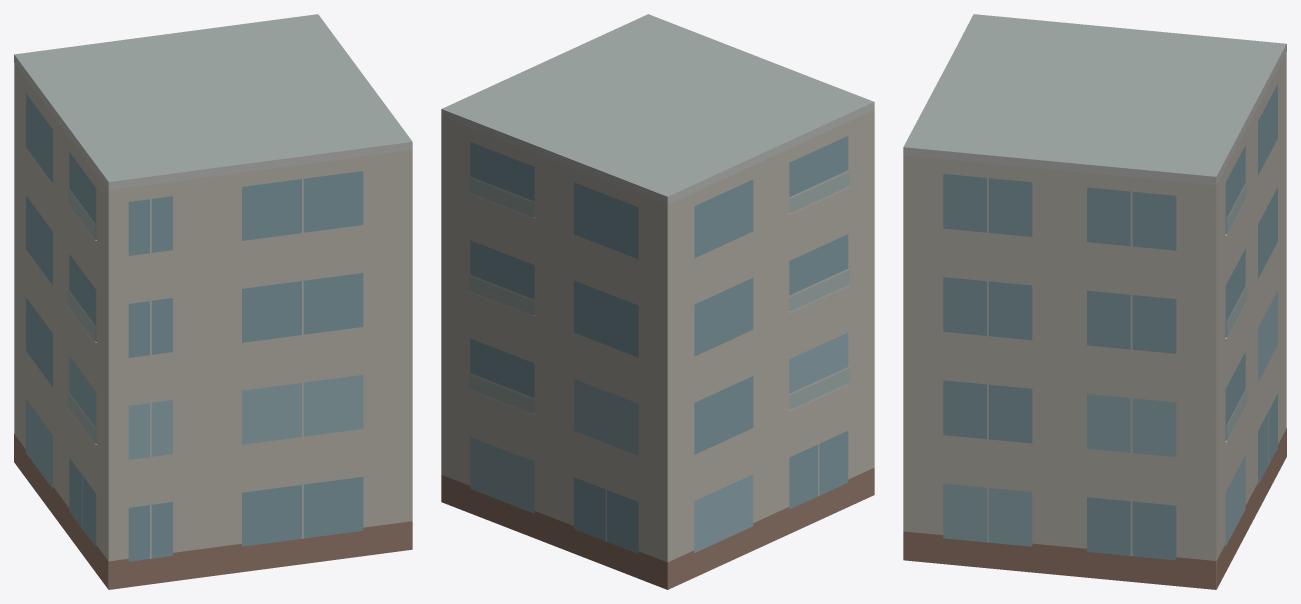
The model's file is residential-d6728722-90ea-461e-8d49-f37adfbdaf23.glb.
3 renders of one model, left to right at view 1: azimuth 30°, elevation 25°; view 2: azimuth 150°, elevation 25°; view 3: azimuth 270°, elevation 25°, orthographic. The views are drawn at different scales.
Visible parts, largest first — view 1: residential-d6728722-90ea-461e-8d49-f37adfbdaf23.tmp; view 2: residential-d6728722-90ea-461e-8d49-f37adfbdaf23.tmp; view 3: residential-d6728722-90ea-461e-8d49-f37adfbdaf23.tmp.
Part boxes in pixels (x1,y1,x2,y2): residential-d6728722-90ea-461e-8d49-f37adfbdaf23.tmp: (14, 14, 412, 589); residential-d6728722-90ea-461e-8d49-f37adfbdaf23.tmp: (441, 14, 874, 589); residential-d6728722-90ea-461e-8d49-f37adfbdaf23.tmp: (903, 14, 1286, 589).
Bounding box in the file's own units: 10.32 × 12.2 × 10.28.
